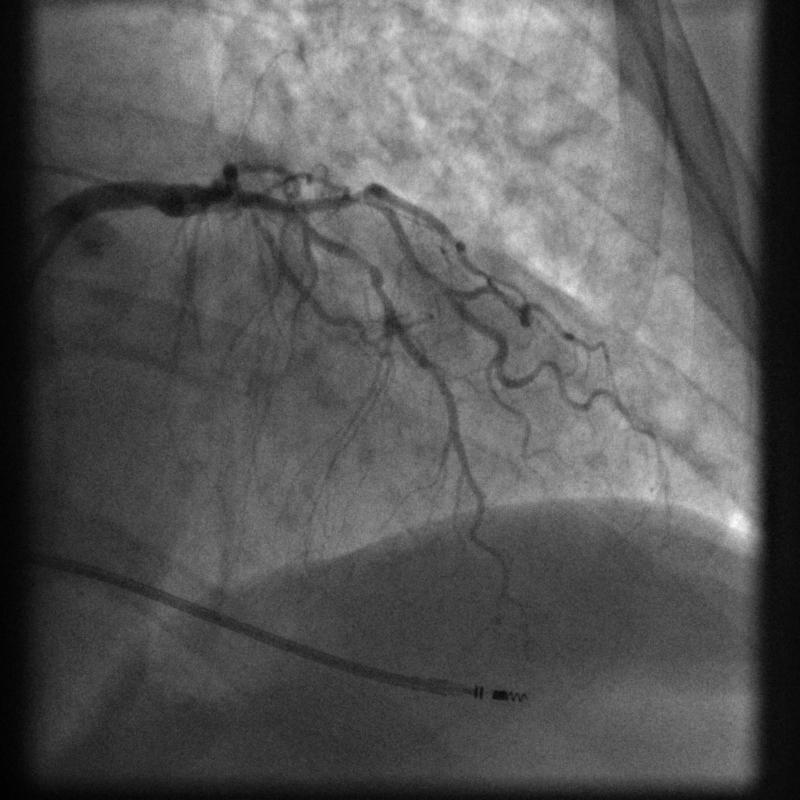Stenosis: (344, 247, 386, 300)
